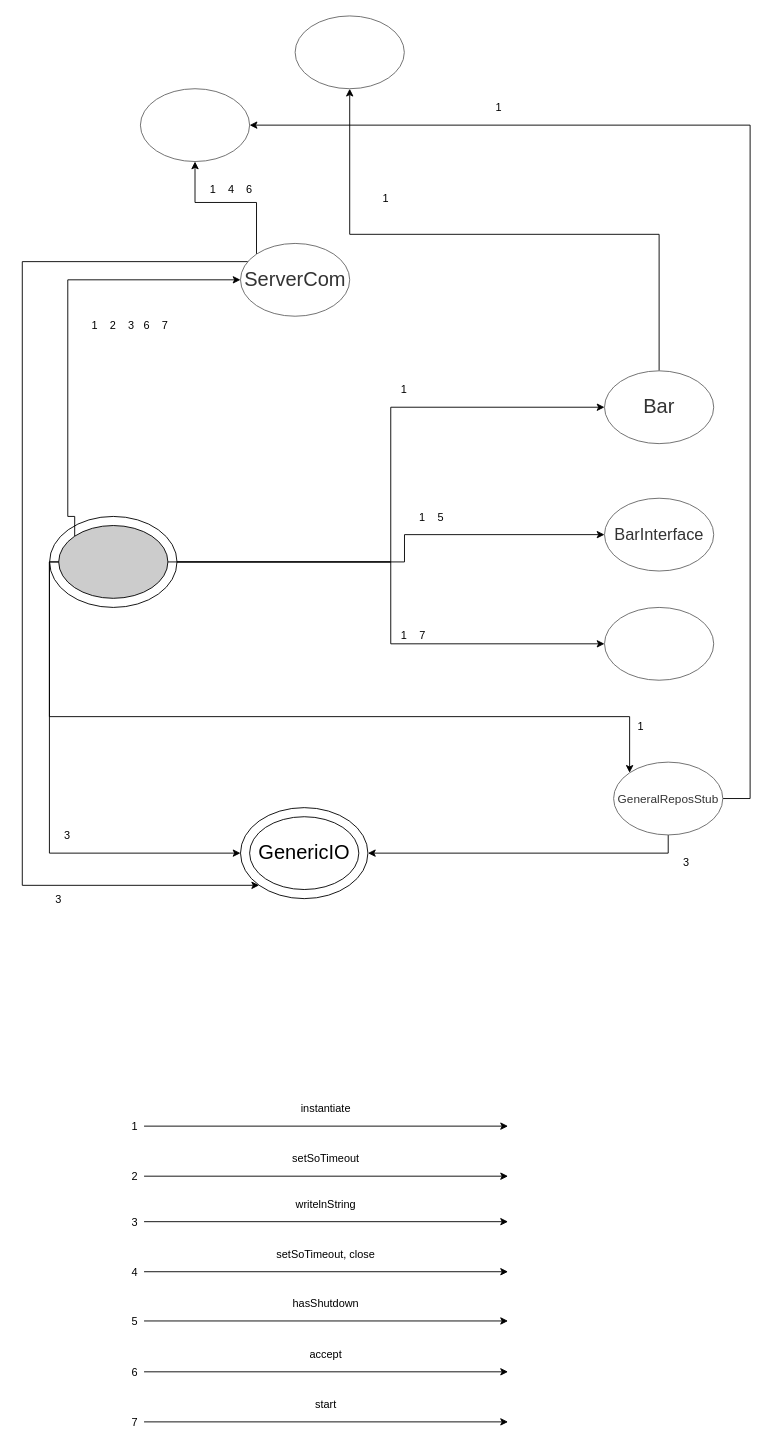
Image size: 774x1447. Some labels were removed from this diagram. The shapes that lost their labels are listed below. From the top down, each one's box as (x1, y1, x2, y2) in pixels, then its label:
(294, 15, 404, 89): MemFIFO
(140, 88, 250, 162): ServerSocket
(58, 525, 168, 598): BarMain
(604, 607, 714, 680): ServiceProviderAgent
